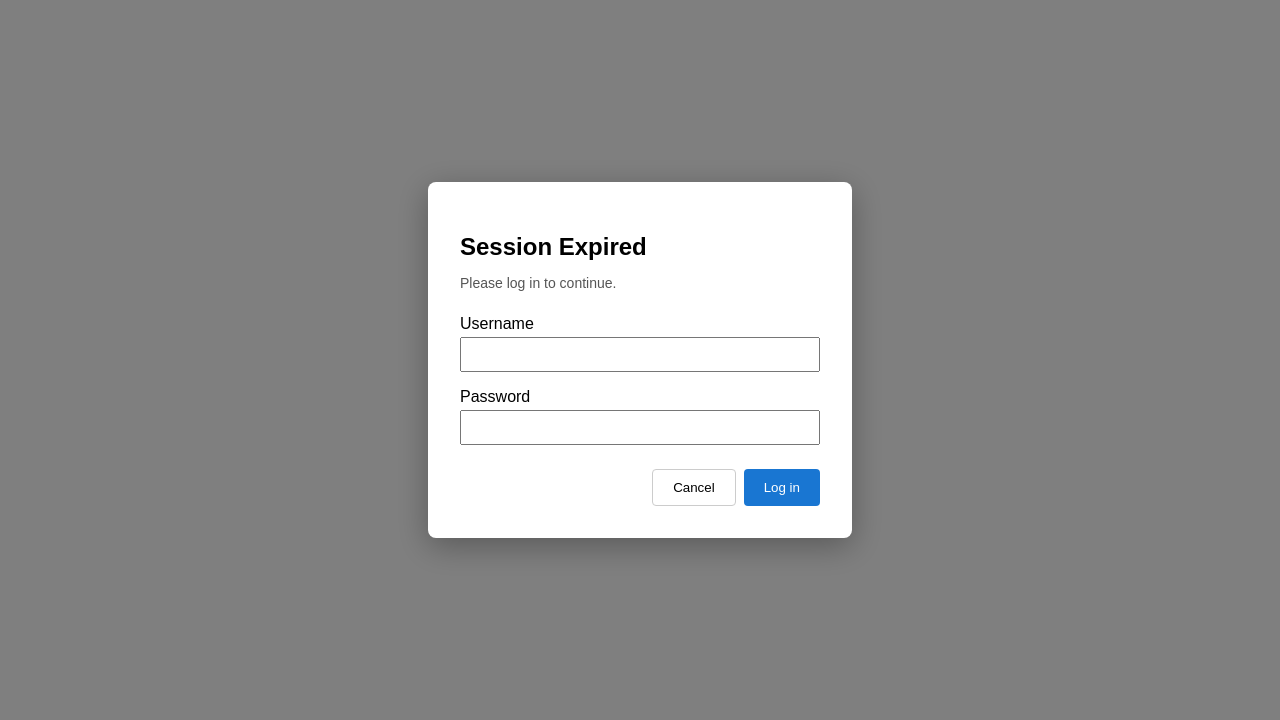
Scenario: ReauthModal › shows error message on invalid credentials
Type "alice" into the field labelled "Username" at (640, 355), box 460,338 -> 820,372
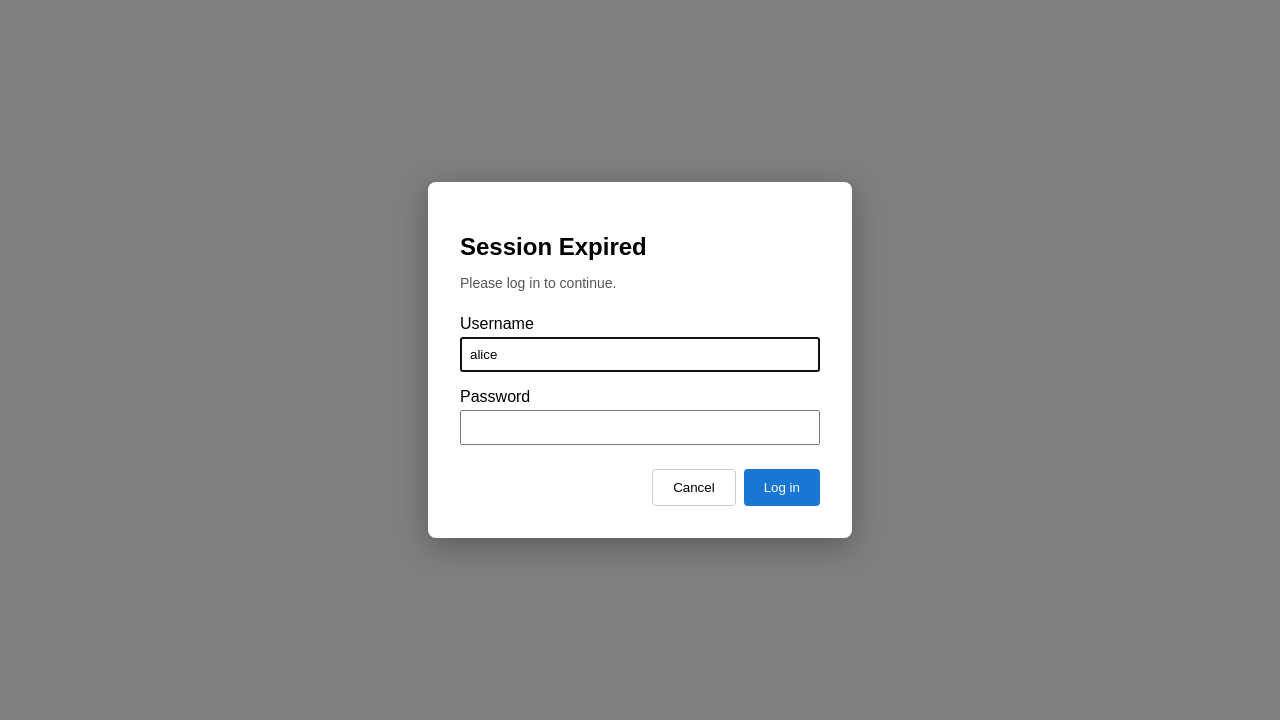
Type "wrong" into the password field labelled "Password" at (640, 428), box 460,410 -> 820,446
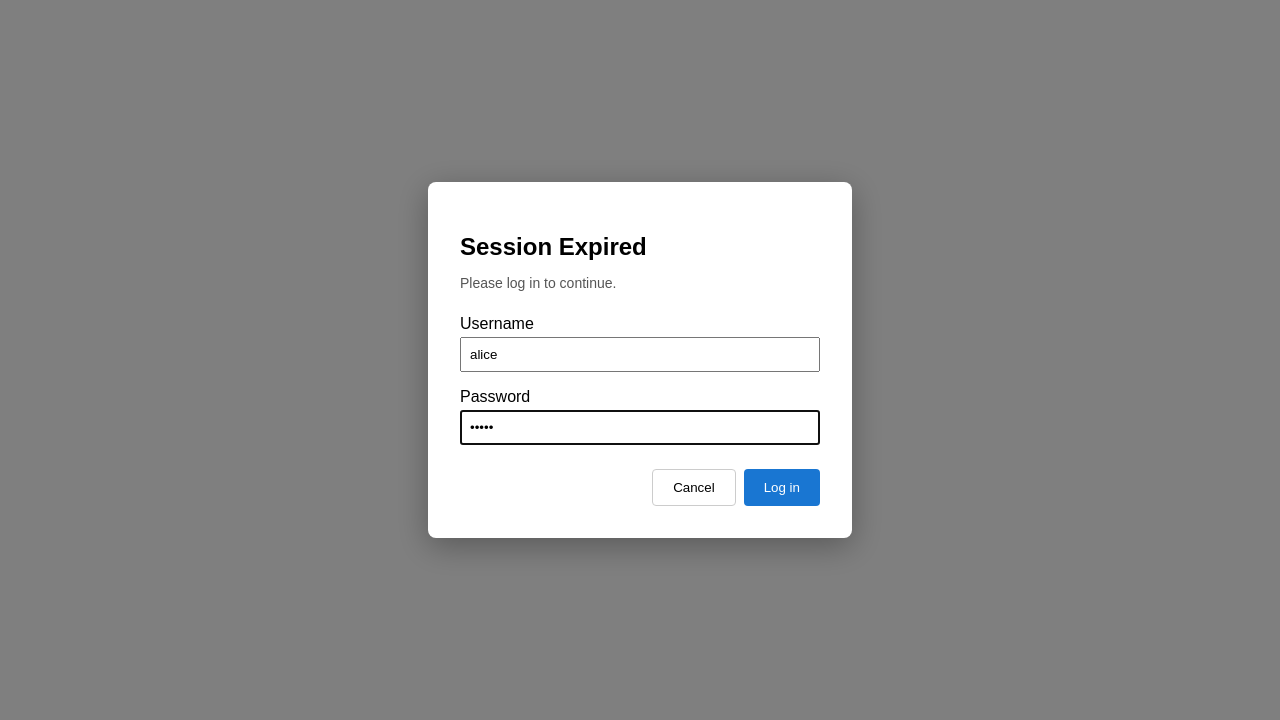
Click the button "Log in" at (782, 488), box 744,470 -> 820,506
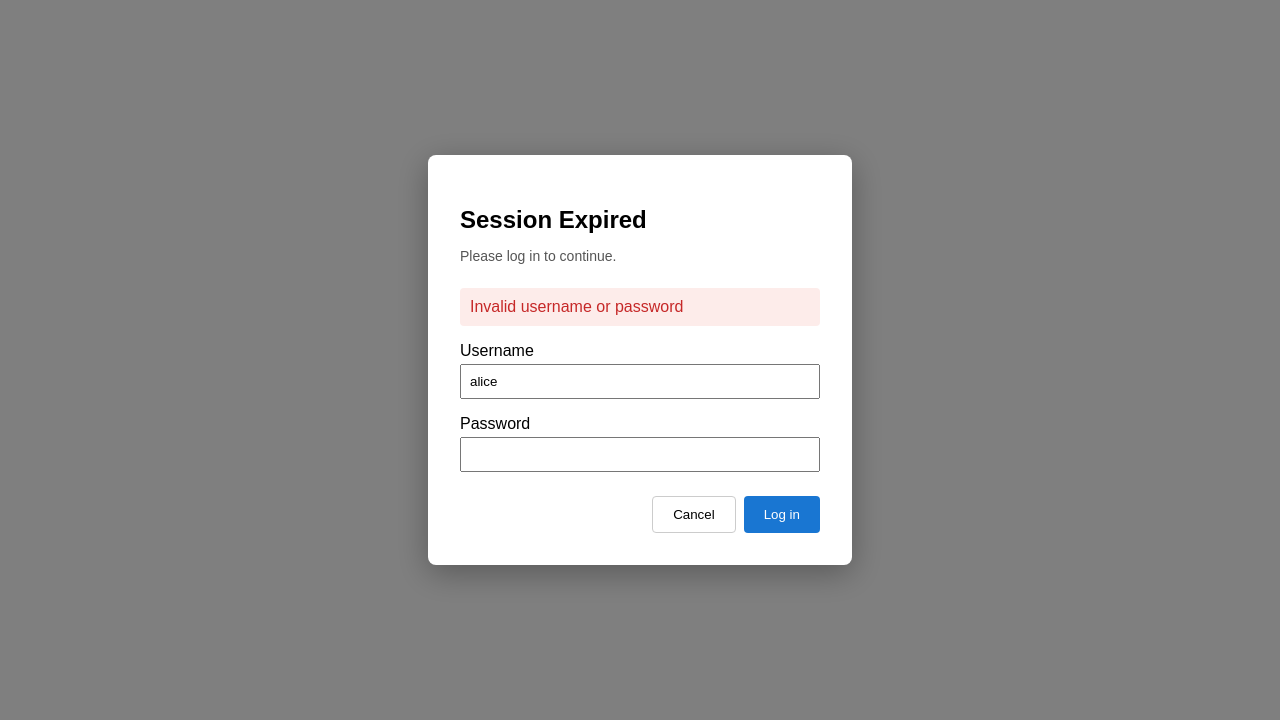
Expected: the message reads "Invalid username or password", 470,298 -> 683,316
